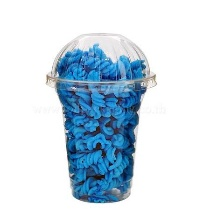glass: (41, 22, 159, 208)
